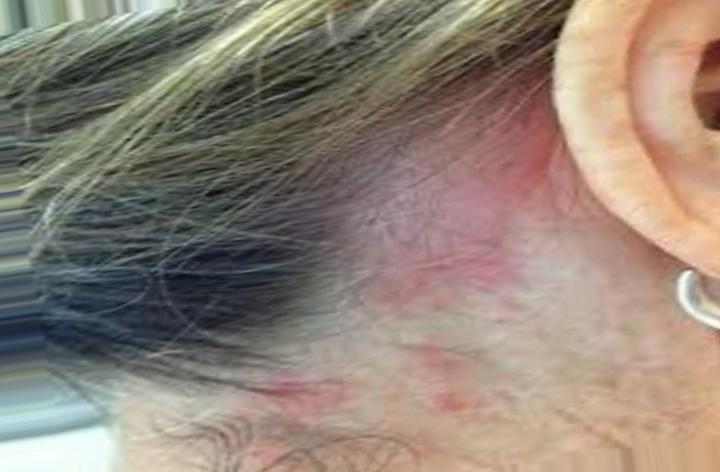Contact Dermatitis: (323, 73, 549, 412)
